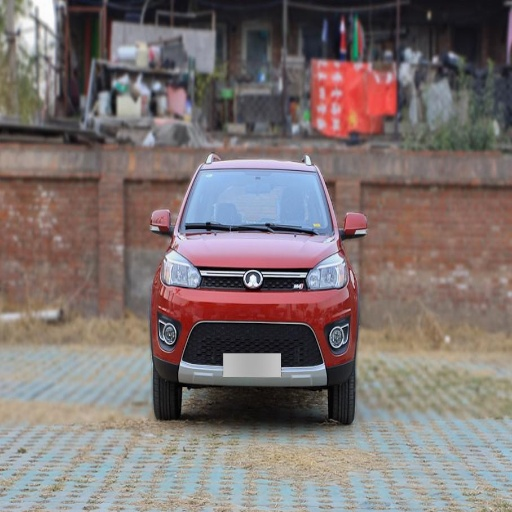front_bumper: (153, 269, 356, 386)
hood: (173, 234, 342, 269)
